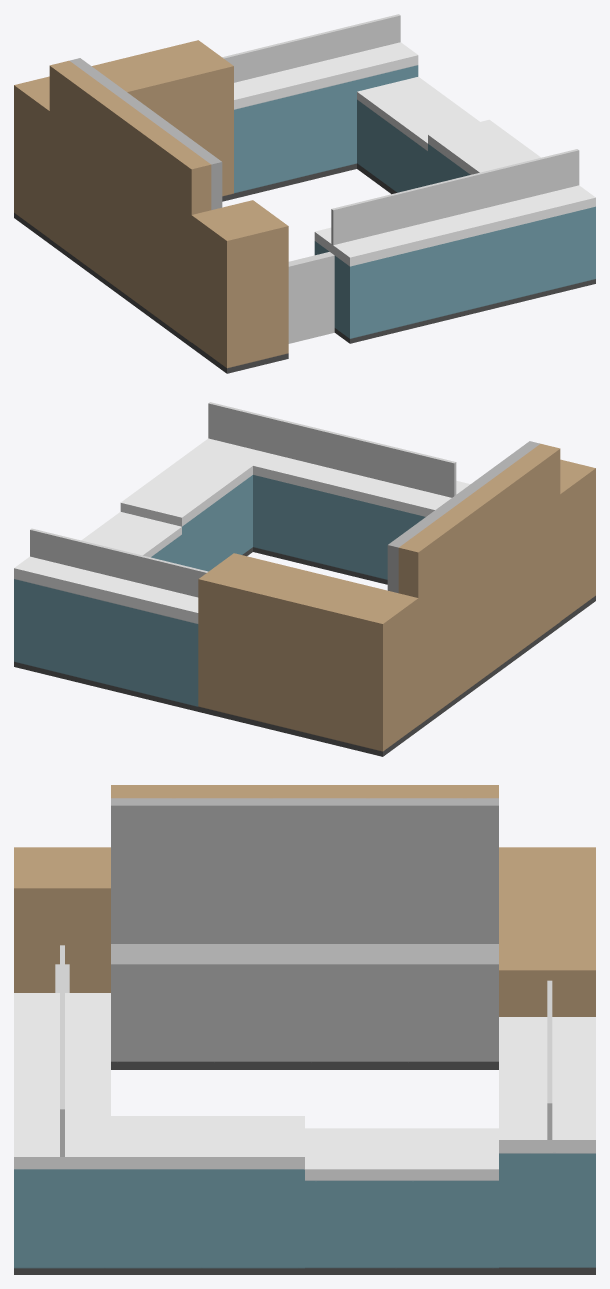
Rendered from Booth8.fbx.
The picture shows the model from 3 angles, top to bottom: view 1: azimuth 30°, elevation 25°; view 2: azimuth 150°, elevation 25°; view 3: azimuth 270°, elevation 25°; orthographic projection. The views are drawn at different scales.
Visible parts, largest first — view 1: Booth_FL, BoothBM, Booth_FR, booth_BR, Booth_BL, Glass_Left, Booth_FM, Glass_Right, SideDoor; view 2: booth_BR, BoothBM, Booth_FL, Booth_FR, Glass_Left, Booth_BL, Glass_Right, Booth_FM; view 3: BoothBM, Booth_FL, Booth_FM, Booth_FR, booth_BR, Booth_BL, Glass_Left, Glass_Right.
Boxes of the visible parts, <box> form: Booth_FL: <box>314,119,595,343</box>; BoothBM: <box>49,58,222,347</box>; Booth_FR: <box>234,42,418,198</box>; booth_BR: <box>14,40,233,243</box>; Booth_BL: <box>191,200,288,373</box>; Glass_Left: <box>331,149,579,245</box>; Booth_FM: <box>357,76,479,194</box>; Glass_Right: <box>222,14,400,82</box>; SideDoor: <box>288,252,334,343</box>; booth_BR: <box>198,553,418,756</box>; BoothBM: <box>387,441,560,730</box>; Booth_FL: <box>120,438,470,584</box>; Booth_FR: <box>14,556,198,711</box>; Glass_Left: <box>208,402,456,497</box>; Booth_BL: <box>560,459,595,626</box>; Glass_Right: <box>30,528,208,597</box>; Booth_FM: <box>81,511,181,564</box>; BoothBM: <box>111,785,498,1069</box>; Booth_FL: <box>14,993,304,1274</box>; Booth_FM: <box>305,1128,498,1274</box>; Booth_FR: <box>499,1017,595,1274</box>; booth_BR: <box>499,847,595,1016</box>; Booth_BL: <box>14,847,110,992</box>; Glass_Left: <box>60,945,64,1156</box>; Glass_Right: <box>547,980,552,1139</box>.
Bounding box in the file's own units: 1000 × 462 × 1000.
